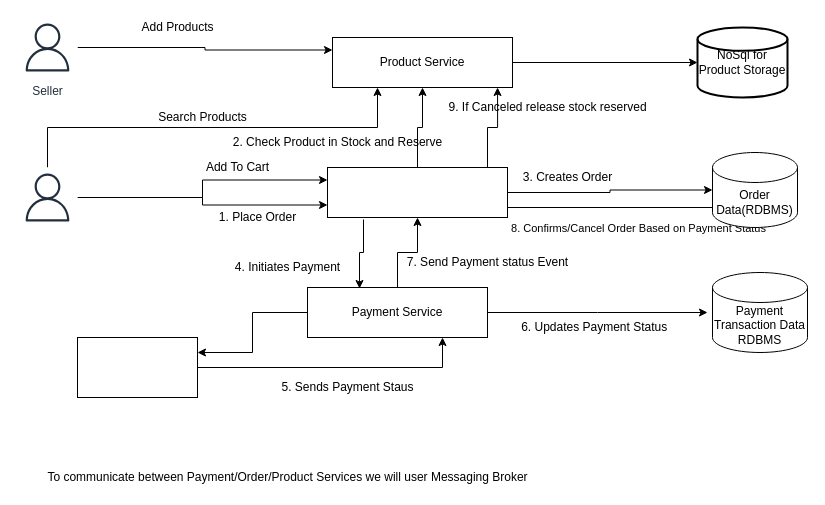
The diagram is 825 pixels wide and 505 high, and some of its shapes have lost their labels. The centre of each missing label's shape, as x and y in pixels:
"Customer" belongs at point (47, 197).
"Order Service" belongs at point (417, 192).
"Payment Gateway" belongs at point (137, 367).
